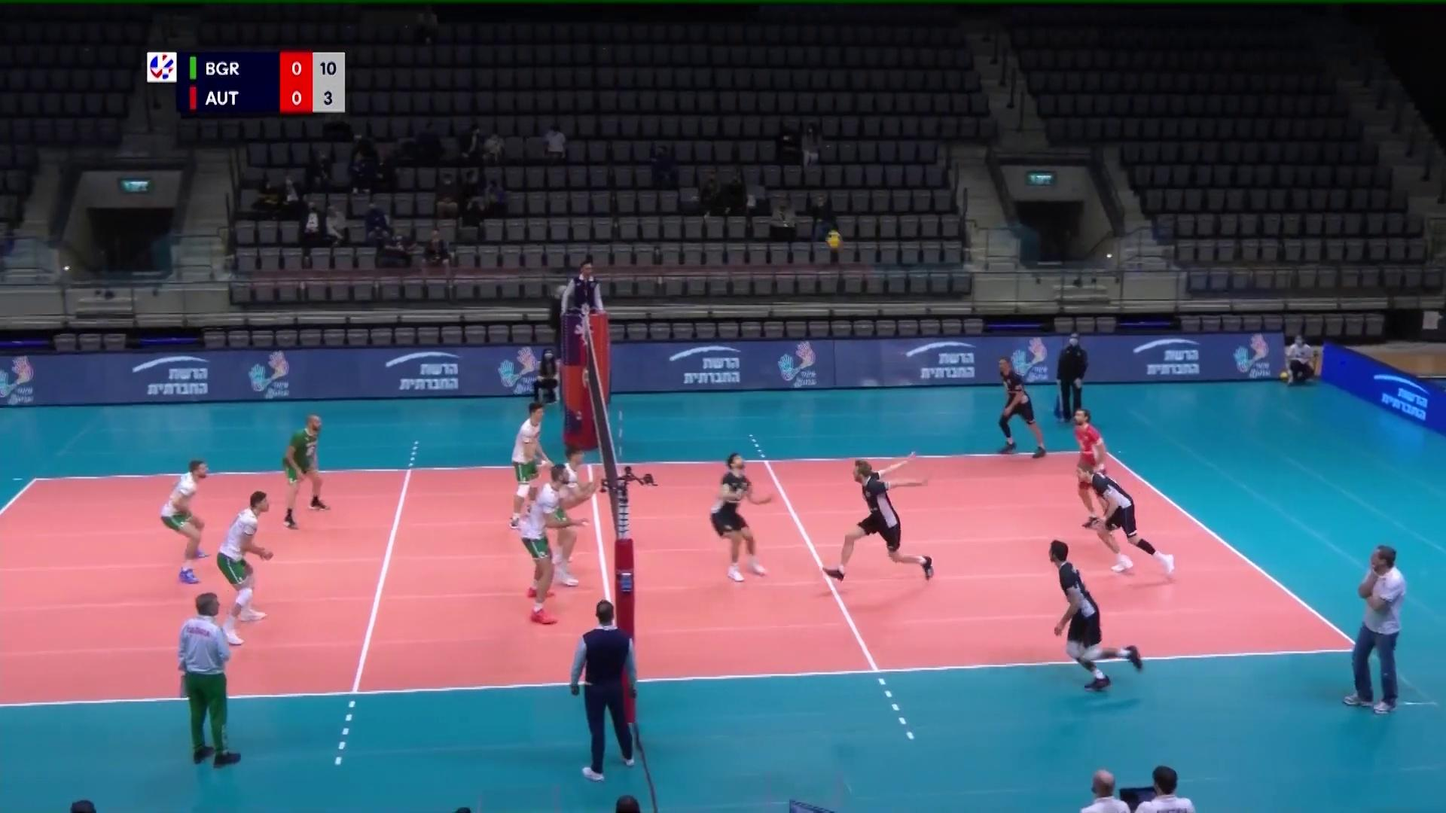ball: (826, 228, 842, 248)
